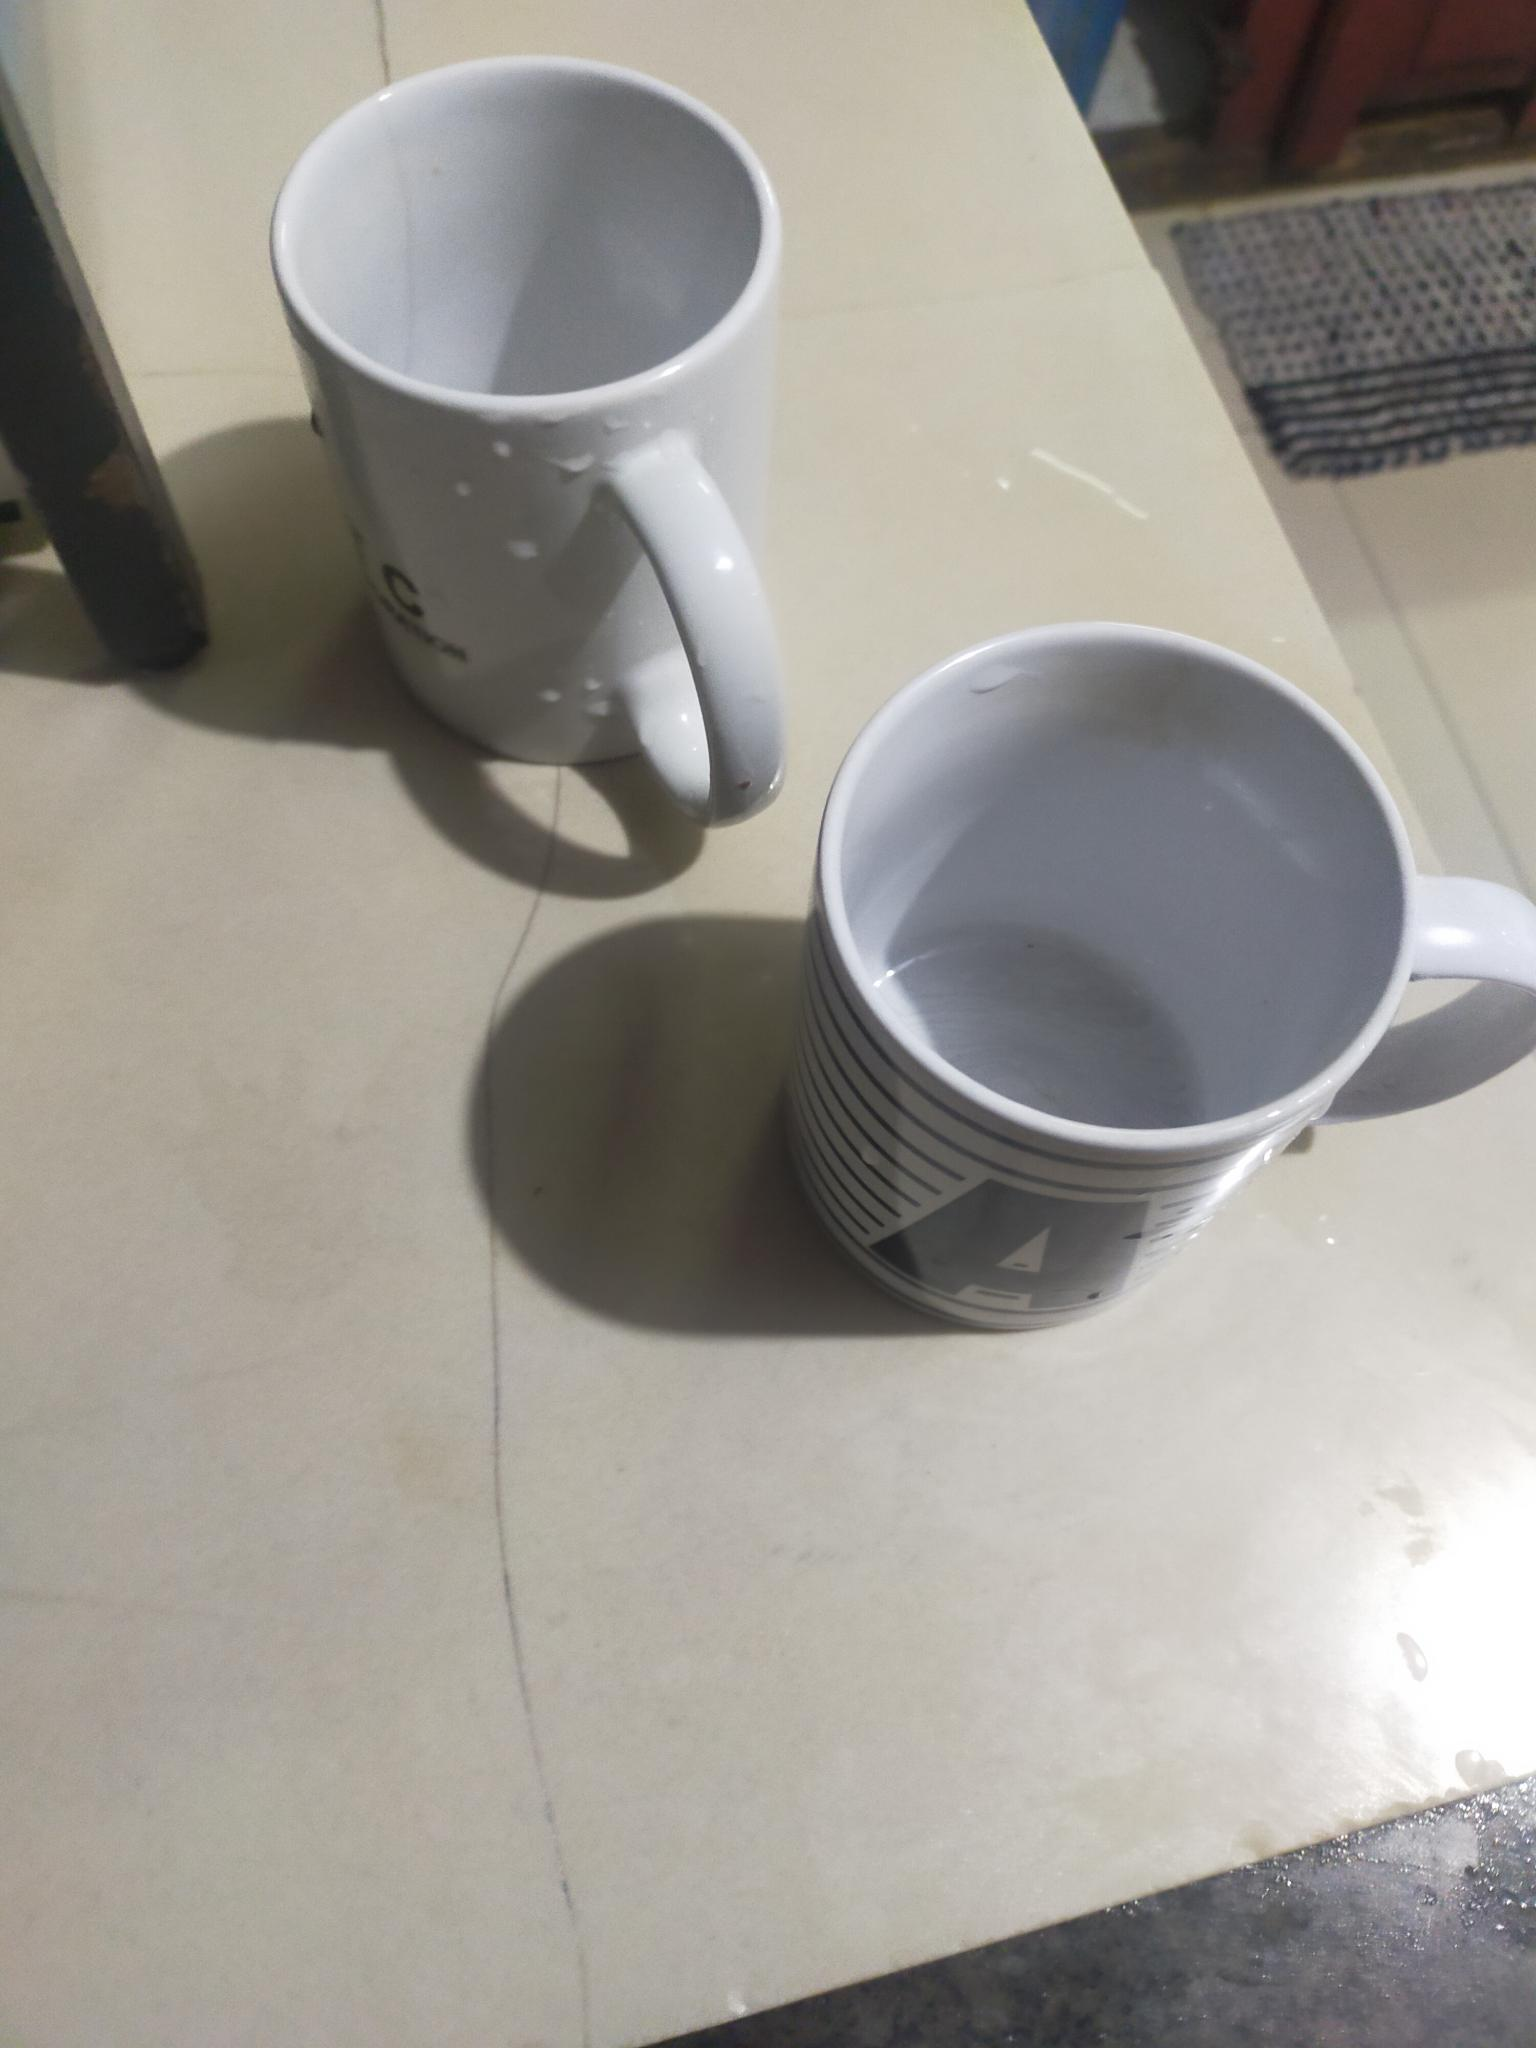Coffee Mug: (789, 624, 1536, 1335), (274, 56, 786, 829)
